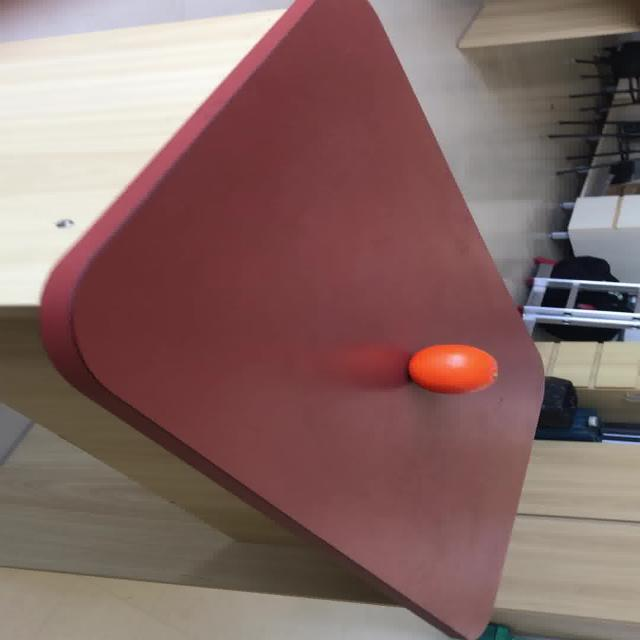orange: (406, 343, 497, 394)
